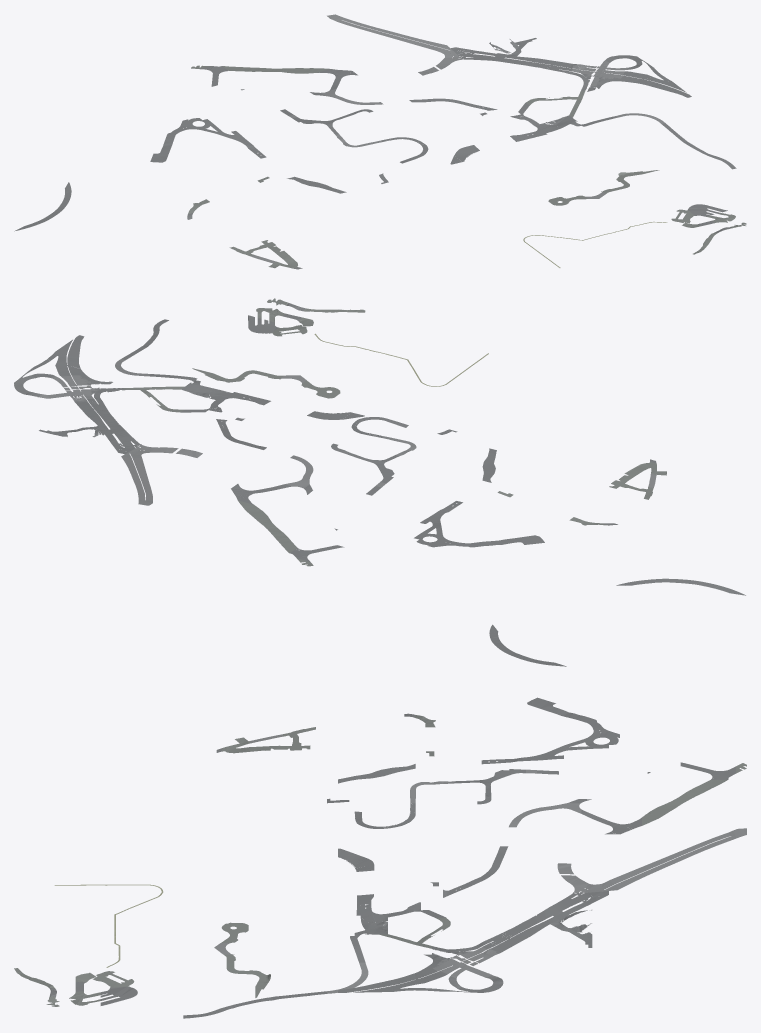
Rendered from roads-upper-gaps.glb.
3 views of the same model, one above another, from view 1: azimuth 30°, elevation 25°; view 2: azimuth 150°, elevation 25°; view 3: azimuth 270°, elevation 25° (orthographic). The views are drawn at different scales.
Visible parts, largest first — view 1: object 10, object 9, pok-fu-lam-south, object 11, Local terminal taper; unchanged outside db59 geometry, Approximate source-informed road; unchanged terrain; seam to, User directed centreline connector; old road seam heights pi, object 13, Isolated source-deck upper-road correction prototype; view 2: object 10, object 9, Local terminal taper; unchanged outside db59 geometry, object 11, Approximate source-informed road; unchanged terrain; seam to, User directed centreline connector; old road seam heights pi, pok-fu-lam-south, object 13, Isolated source-deck upper-road correction prototype; view 3: object 10, object 9, pok-fu-lam-south, Local terminal taper; unchanged outside db59 geometry, object 11, Approximate source-informed road; unchanged terrain; seam to, User directed centreline connector; old road seam heights pi, object 13, User-accepted current-height eastern secondary-road corridor, pok-fu-lam-north, Isolated source-deck upper-road correction prototype.
Part boxes in pixels (left/top/right/bottom): object 10: left=476, top=38, right=691, bottom=97; object 9: left=150, top=118, right=243, bottom=162; pok-fu-lam-south: left=327, top=14, right=428, bottom=43; object 11: left=510, top=115, right=581, bottom=141; Local terminal taper; unchanged outside db59 geometry: left=671, top=209, right=745, bottom=254; Approximate source-informed road; unchanged terrain; seam to: left=548, top=170, right=746, bottom=224; User directed centreline connector; old road seam heights pi: left=222, top=66, right=329, bottom=73; object 13: left=231, top=131, right=346, bottom=193; Isolated source-deck upper-road correction prototype: left=572, top=64, right=626, bottom=78; object 10: left=20, top=335, right=133, bottom=438; object 9: left=414, top=514, right=544, bottom=547; Local terminal taper; unchanged outside db59 geometry: left=256, top=298, right=365, bottom=336; object 11: left=181, top=380, right=270, bottom=405; Approximate source-informed road; unchanged terrain; seam to: left=192, top=299, right=340, bottom=398; User directed centreline connector; old road seam heights pi: left=238, top=500, right=296, bottom=553; pok-fu-lam-south: left=126, top=464, right=152, bottom=505; object 13: left=420, top=448, right=496, bottom=523; Isolated source-deck upper-road correction prototype: left=52, top=375, right=93, bottom=400; object 10: left=338, top=899, right=592, bottom=992; object 9: left=524, top=697, right=619, bottom=757; pok-fu-lam-south: left=636, top=828, right=746, bottom=880; Local terminal taper; unchanged outside db59 geometry: left=14, top=968, right=134, bottom=1005; object 11: left=354, top=894, right=387, bottom=935; Approximate source-informed road; unchanged terrain; seam to: left=51, top=922, right=270, bottom=1006; User directed centreline connector; old road seam heights pi: left=642, top=779, right=727, bottom=825; object 13: left=338, top=755, right=563, bottom=783; User-accepted current-height eastern secondary-road corridor: left=183, top=936, right=365, bottom=1018; pok-fu-lam-north: left=567, top=869, right=636, bottom=892; Isolated source-deck upper-road correction prototype: left=434, top=947, right=497, bottom=977.
Size of the model in its own units: 863 by 80.24 by 663.
